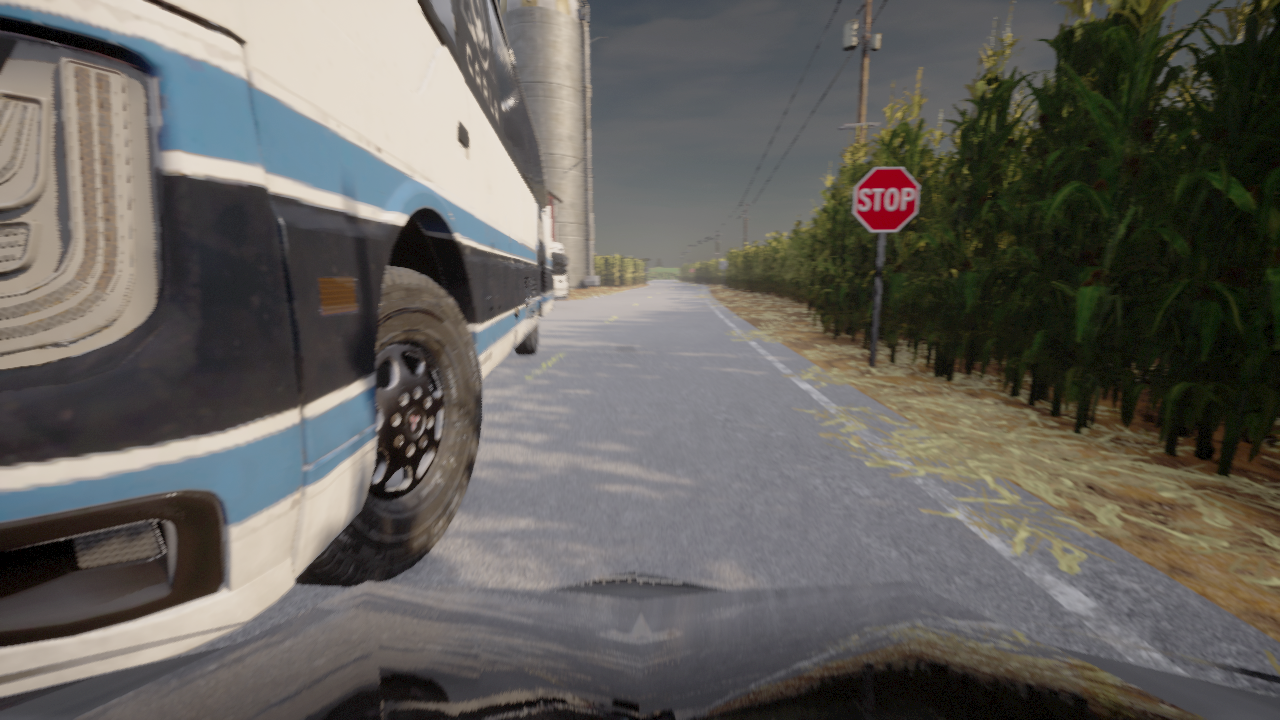cyclist: (0, 0, 553, 696), (0, 569, 1279, 719), (551, 242, 567, 299)
